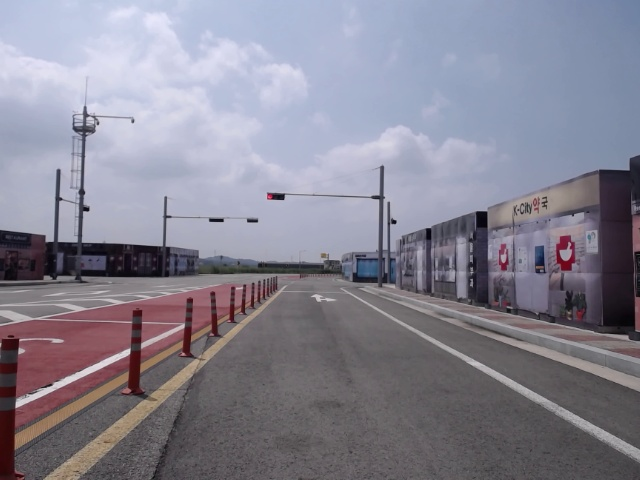red_3: (265, 193, 286, 200)
